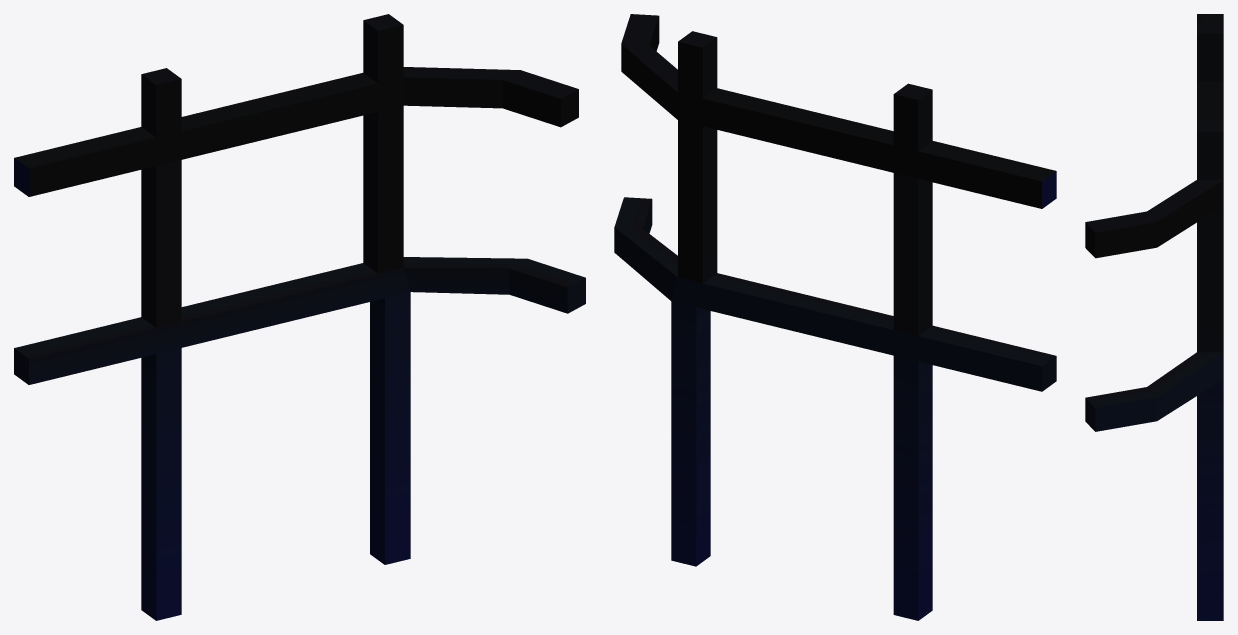
The model's file is LBrokenFence.fbx.
3 renders of one model, left to right at view 1: azimuth 30°, elevation 25°; view 2: azimuth 150°, elevation 25°; view 3: azimuth 270°, elevation 25°, orthographic. The views are drawn at different scales.
Visible parts, largest first — view 1: Cube; view 2: Cube; view 3: Cube.
Part boxes in pixels (x1,y1,x2,y2): Cube: (14,14,585,620); Cube: (614,14,1056,620); Cube: (1085,14,1223,620).
Bounding box in the file's own units: 1957 × 2001 × 517.
